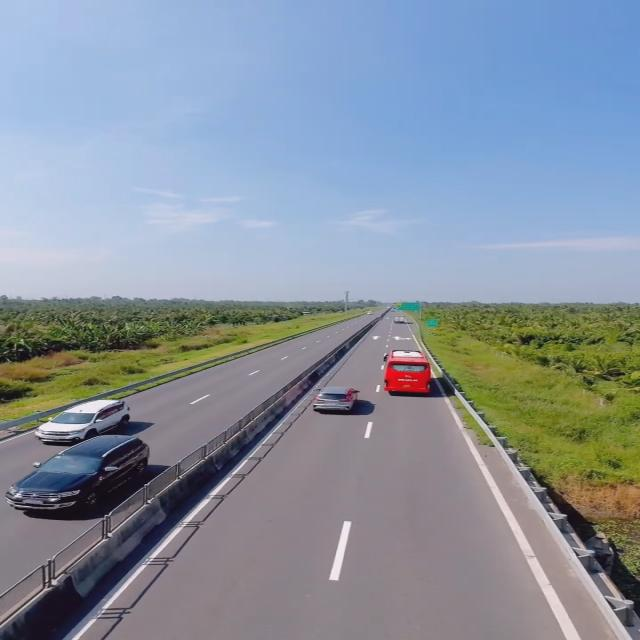bus: (378, 347, 436, 399)
car: (10, 433, 154, 516), (34, 397, 130, 444), (314, 388, 364, 418)
